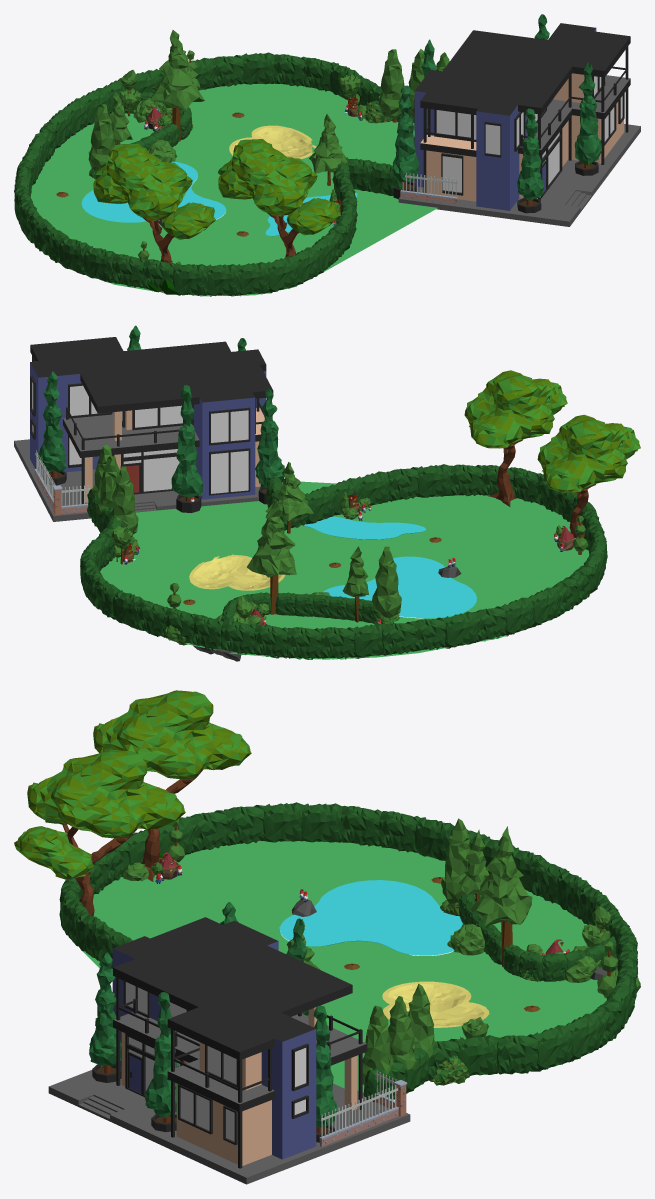
File: Level_Advanced_Medium_grass_mesh.fbx
3 renders of one model, top to bottom at view 1: azimuth 30°, elevation 25°; view 2: azimuth 150°, elevation 25°; view 3: azimuth 270°, elevation 25°, orthographic. The views are drawn at different scales.
Visible parts, largest first — view 1: 1ModernHouse, Object, grass_mesh, TreeBase.007, TreeBase.009, SpruceTree.002, Cylinder.003, Cylinder.004, PointyBush.012, SpruceTreeSmall.001, PointyBush.013, Bush.093 (+32 smaller); view 2: 1ModernHouse, Object, grass_mesh, TreeBase.009, TreeBase.007, Cylinder.003, SpruceTree.002, Cylinder.004, Cylinder.005, PointyBush.013, SpruceTreeSmall.001, PointyBush.012 (+31 smaller); view 3: 1ModernHouse, Object, grass_mesh, TreeBase.009, TreeBase.007, Cylinder.003, SpruceTree.002, Cylinder.004, PointyBush.013, Bush.067, PointyBush.010, Bush.087 (+26 smaller).
Part boxes in pixels (box(x1,y1,x2,y2)): 1ModernHouse: box(392, 14, 640, 226); Object: box(30, 83, 437, 296); grass_mesh: box(35, 86, 414, 265); TreeBase.007: box(93, 143, 215, 293); TreeBase.009: box(218, 139, 340, 288); SpruceTree.002: box(150, 30, 204, 141); Cylinder.003: box(81, 161, 226, 222); Cylinder.004: box(229, 125, 316, 158); PointyBush.012: box(378, 49, 404, 122); SpruceTreeSmall.001: box(309, 114, 347, 185); PointyBush.013: box(88, 104, 116, 171); Bush.093: box(173, 263, 208, 296); 1ModernHouse: box(14, 325, 284, 521); Object: box(100, 481, 606, 659); grass_mesh: box(133, 498, 584, 628); TreeBase.009: box(464, 370, 567, 506); TreeBase.007: box(537, 414, 640, 551); Cylinder.003: box(323, 556, 476, 618); SpruceTree.002: box(247, 500, 296, 614); Cylinder.004: box(189, 554, 284, 590); Cylinder.005: box(301, 516, 425, 539); PointyBush.013: box(372, 546, 401, 618); SpruceTreeSmall.001: box(265, 462, 313, 533); PointyBush.012: box(109, 466, 138, 533); 1ModernHouse: box(48, 902, 410, 1184); Object: box(78, 840, 606, 1092); grass_mesh: box(93, 846, 603, 1086); TreeBase.009: box(14, 749, 185, 916); TreeBase.007: box(93, 690, 251, 881); Cylinder.003: box(280, 880, 463, 955); SpruceTree.002: box(470, 826, 532, 967); Cylinder.004: box(382, 981, 489, 1027); PointyBush.013: box(440, 818, 475, 904); Bush.067: box(497, 1034, 538, 1074); PointyBush.010: box(362, 1005, 394, 1085); Bush.087: box(301, 803, 342, 842).
Bounding box in the file's own units: 23815 × 5726 × 18102.
